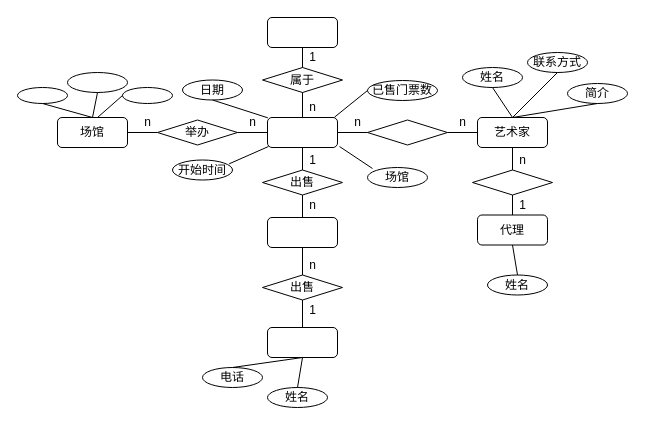
Image size: 645x425. Some labels were removed from this diagram. Each missing label, with the box of its shape:
地址: (122, 86, 172, 104)
容量: (16, 86, 68, 104)
演出: (366, 119, 448, 145)
经理电话: (66, 72, 128, 92)
负责: (472, 169, 552, 195)
门票: (266, 216, 338, 248)
音乐会: (266, 116, 338, 148)
音乐节: (266, 16, 338, 48)
顾客: (266, 326, 338, 358)
